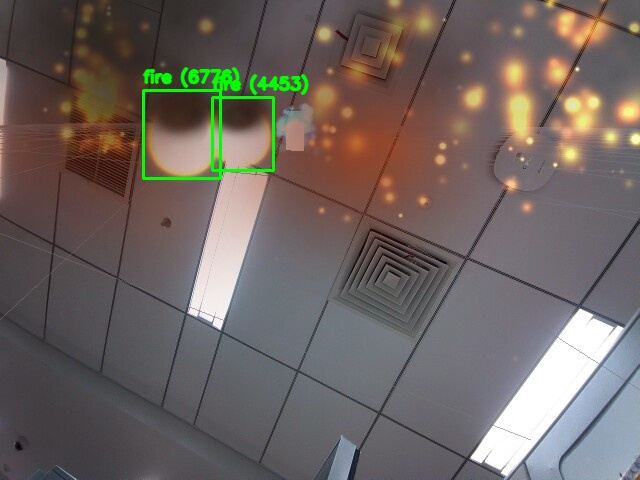fire: (143, 90, 220, 178), (212, 97, 273, 170)
